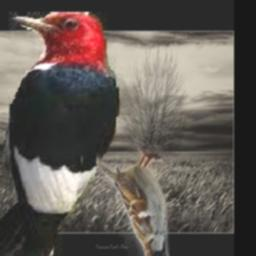Sparrow: (97, 146, 170, 256)
Woodpecker: (0, 13, 125, 256)
